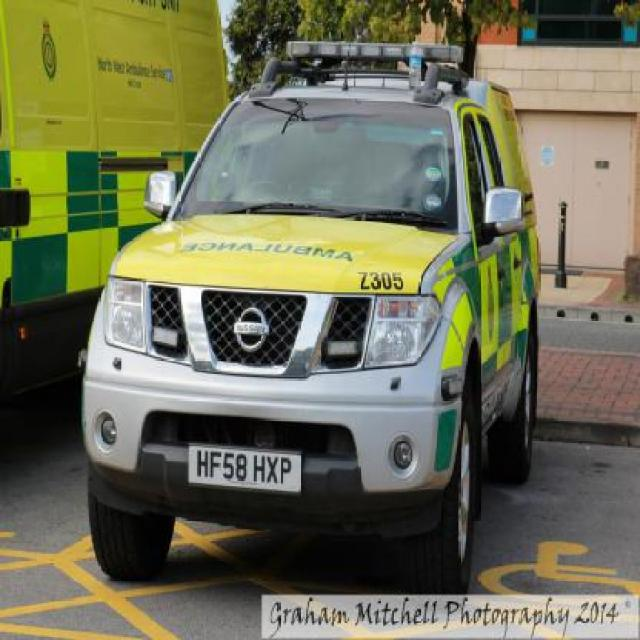License-Plates: (188, 443, 302, 493)
